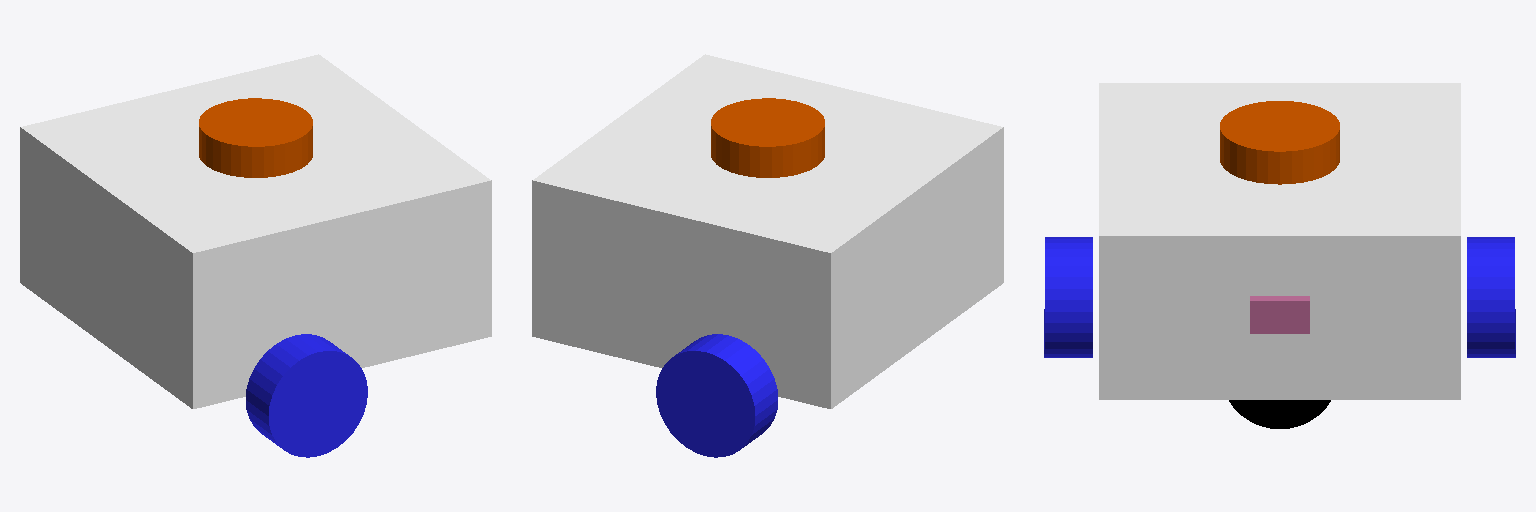
The robot description file, URDF, robot "my_robot":
<?xml version="1.0"?>
<robot name="my_robot" xmlns:xacro="http://www.ros.org/wiki/xacro">
    <material name="white">
        <color rgba="1 1 1 1" />
    </material>

    <material name="orange">
        <color rgba="1 0.3 0.1 1" />
    </material>

    <material name="blue">
        <color rgba="0.2 0.2 1 1" />
    </material>

    <material name="black">
        <color rgba="0 0 0 1" />
    </material>


    

    <link name="base_link">
        <inertial>
            <mass value="1.0" />
            <origin xyz="0.15 0 0.075" rpy="0 0 0" />
            <inertia ixx="0.2" ixy="0" ixz="0" iyy="0.2" iyz="0" izz="0.2" />
        </inertial>
        <visual>
            <origin xyz="0.15 0 0.075" rpy="0 0 0" />
            <geometry>
                <box size="0.3 0.3 0.15" />
            </geometry>
            <material name="white" />
        </visual>
        <collision>
            <origin xyz="0.15 0 0.075" rpy="0 0 0" />
            <geometry>
                <box size="0.3 0.3 0.15" />
            </geometry>
        </collision>
    </link>
    <gazebo reference="base_link">
        <material>Gazebo/White</material>
    </gazebo>

    <!-- LEFT WHEEL -->
    <joint name="left_wheel_joint" type="continuous">
        <parent link="base_link" />
        <child link="left_wheel" />
        <origin xyz="0.1 0.175 0" rpy="-1.57 0 0" />
        <axis xyz="0 0 1" />
    </joint>

    <link name="left_wheel">
        <inertial>
            <mass value="0.1" />
            <origin xyz="0 0 0" />
            <inertia ixx="0.002" ixy="0" ixz="0" iyy="0.002" iyz="0" izz="0.002" />
        </inertial>
        <visual>
            <geometry>
                <cylinder length="0.04" radius="0.05" />
            </geometry>
            <material name="blue" />
        </visual>
        <collision>
            <origin xyz="0 0 0" rpy="0 0 0" />
            <geometry>
                <cylinder length="0.04" radius="0.05" />
            </geometry>
        </collision>
    </link>
    <gazebo reference="left_wheel">
        <material>Gazebo/Black</material>

    </gazebo>

    <!-- RIGHT WHEEL -->
    <joint name="right_wheel_joint" type="continuous">
        <parent link="base_link" />
        <child link="right_wheel" />
        <origin xyz="0.1 -0.175 0" rpy="1.57 0 0" />
        <axis xyz="0 0 -1" />
    </joint>

    <link name="right_wheel">
        <inertial>
            <mass value="0.1" />
            <origin xyz="0 0 0" />
            <inertia ixx="0.002" ixy="0" ixz="0" iyy="0.002" iyz="0" izz="0.002" />
        </inertial>
        <visual>
            <geometry>
                <cylinder length="0.04" radius="0.05" />
            </geometry>
            <material name="blue" />
        </visual>
        <collision>
            <origin xyz="0 0 0" rpy="0 0 0" />
            <geometry>
                <cylinder length="0.04" radius="0.05" />
            </geometry>
        </collision>
    </link>
    <gazebo reference="right_wheel">
        <material>Gazebo/Black</material>

    </gazebo>

    <!-- CASTER WHEEL -->
    <joint name="caster_wheel_joint" type="fixed">
        <parent link="base_link" />
        <child link="caster_wheel" />
        <origin xyz="0.24 0 0" rpy="0 0 0" />
    </joint>

    <link name="caster_wheel">
        <visual>
            <geometry>
                <sphere radius="0.05" />
            </geometry>
            <material name="black" />
        </visual>
        <collision>
            <geometry>
                <sphere radius="0.05" />
            </geometry>
        </collision>
        <inertial>
            <mass value="0.2" />
            <origin xyz="0 0 0" />
            <inertia ixx="0.0002" ixy="0" ixz="0" iyy="0.0002" iyz="0" izz="0.0002" />
        </inertial>
    </link>

    <gazebo reference="caster_wheel">
        <material>Gazebo/Red</material>
        <mu1 value="0.001" />
        <mu2 value="0.001" />
    </gazebo>

    <joint name="imu_link_joint" type="fixed">
        <parent link="base_link" />
        <child link="imu_link" />
        <origin xyz="0.25 0 0.10" rpy="0 0 0" />
    </joint>
  <gazebo reference="imu_link">
        <material>Gazebo/Orange</material>
        <mu1 value="0.001" />
        <mu2 value="0.001" />
    </gazebo>
    <link name="imu_link">
        <inertial>
            <mass value="0.001"/>
            <origin xyz="0 0 0" rpy="0 0 0"/>
            <inertia ixx="0.000001" ixy="0" ixz="0" iyy="0.000001" iyz="0" izz="0.000001"/>
        </inertial>
        <visual>
            <geometry>
            <sphere radius="0.005"/>
            </geometry>
            <material name="gray">
            <color rgba="0.5 0.5 0.5 1.0"/>
            </material>
        </visual>
        <imu name="imu_sensor">
            <origin xyz="0 0 0" rpy="0 0 0"/>
            <acceleration>
            <noise>
                <covariance>0.04 0 0 0 0.04 0 0 0 0.04</covariance>
            </noise>
            </acceleration>
            <angular_velocity>
            <noise>
                <covariance>0.0025 0 0 0 0.0025 0 0 0 0.0025</covariance>
            </noise>
            </angular_velocity>
            <magnetic_field>
            <noise>
                <covariance>0.02 0 0 0 0.02 0 0 0 0.02</covariance>
            </noise>
            </magnetic_field>
        </imu>
    </link>

    <!-- LIDAR -->
    <joint name="lidar_joint" type="fixed">
        <parent link="base_link" />
        <child link="lidar" />
        <origin xyz="0.15 0 0.16" rpy="0 0 0" />
    </joint>

    <link name="lidar">
        <inertial>
            <mass value="0.1" />
            <origin xyz="0 0 0" />
            <inertia ixx="0.002" ixy="0" ixz="0" iyy="0.002" iyz="0" izz="0.002" />
        </inertial>
        <visual>
            <geometry>
                <cylinder length="0.04" radius="0.05" />
            </geometry>
            <material name="green" />
        </visual>
        <collision>
            <origin xyz="0 0 0" rpy="0 0 0" />
            <geometry>
                <cylinder length="0.04" radius="0.05" />
            </geometry>
        </collision>
    </link>

    <gazebo reference="lidar">
        <material>Gazebo/Yellow</material>

    </gazebo>
    <!-- CAMERA -->
    <joint name="camera_joint" type="fixed">
        <parent link="base_link" />
        <child link="camera" />
        <origin xyz="0.3 0 0.08" rpy="0 0 0" />
    </joint>

    <link name="camera">
        <inertial>
            <mass value="0.1" />
            <origin xyz="0 0 0" />
            <inertia ixx="0.002" ixy="0" ixz="0" iyy="0.002" iyz="0" izz="0.002" />
        </inertial>
        <visual>
            <geometry>
                <box size="0.02 0.05 0.03" />
            </geometry>
            <material name="yellow" />
        </visual>
        <collision>
            <origin xyz="0 0 0" rpy="0 0 0" />
            <geometry>
                <box size="0.02 0.03 0.03" />
            </geometry>
        </collision>
    </link>

    <gazebo reference="camera">
        <material>Gazebo/Blue</material>

    </gazebo>

    <gazebo reference="imu_link">
    <sensor name="imu_sensor" type="imu">
      <plugin filename="libgazebo_ros_imu_sensor.so" name="imu_plugin">
        <ros>
          <namespace>/demo</namespace>
          <remapping>~/out:=imu</remapping>
        </ros>
        <initial_orientation_as_reference>false</initial_orientation_as_reference>
      </plugin>
      <always_on>true</always_on>
      <update_rate>100</update_rate>
      <visualize>true</visualize>
     <imu>
     	<angular_velocity>
     	  <x>
     	    <noise type="gaussian">
              <mean>0.0</mean>
              <stddev>2e-4</stddev>
              <bias_mean>0.0000075</bias_mean>
              <bias_stddev>0.0000008</bias_stddev>
            </noise>
          </x>
          <y>
            <noise type="gaussian">
              <mean>0.0</mean>
              <stddev>2e-4</stddev>
              <bias_mean>0.0000075</bias_mean>
              <bias_stddev>0.0000008</bias_stddev>
            </noise>
          </y>
          <z>
            <noise type="gaussian">
              <mean>0.0</mean>
              <stddev>2e-4</stddev>
              <bias_mean>0.0000075</bias_mean>
              <bias_stddev>0.0000008</bias_stddev>
            </noise>
          </z>
        </angular_velocity>
        <linear_acceleration>
          <x>
            <noise type="gaussian">
              <mean>0.0</mean>
              <stddev>1.7e-2</stddev>
              <bias_mean>0.1</bias_mean>
              <bias_stddev>0.001</bias_stddev>
            </noise>
          </x>
          <y>
            <noise type="gaussian">
              <mean>0.0</mean>
              <stddev>1.7e-2</stddev>
              <bias_mean>0.1</bias_mean>
              <bias_stddev>0.001</bias_stddev>
            </noise>
          </y>
          <z>
            <noise type="gaussian">
              <mean>0.0</mean>
              <stddev>1.7e-2</stddev>
              <bias_mean>0.1</bias_mean>
              <bias_stddev>0.001</bias_stddev>
            </noise>
          </z>
        </linear_acceleration>
      </imu>
    </sensor>
  </gazebo>


<gazebo>
    <plugin name='diff_drive' filename='libgazebo_ros_diff_drive.so'>

      <!-- wheels -->
      <left_joint>left_wheel_joint</left_joint>
      <right_joint>right_wheel_joint</right_joint>

      <!-- kinematics -->
      <wheel_separation>1.66</wheel_separation>
      <wheel_diameter>0.8</wheel_diameter>

      <!-- limits -->	
      <max_wheel_torque>20</max_wheel_torque>
      <max_wheel_acceleration>1.0</max_wheel_acceleration>

      <!-- output -->
      <publish_odom>true</publish_odom>
      <publish_odom_tf>false</publish_odom_tf>
      <publish_wheel_tf>true</publish_wheel_tf>
            <command_topic>cmd_vel</command_topic>

      <odometry_frame>odom</odometry_frame>
      <robot_base_frame>base_link</robot_base_frame>
    </plugin>
  </gazebo>


  <gazebo reference="lidar">
    <sensor name="lidar" type="ray">
      <always_on>true</always_on>
      <visualize>true</visualize>
      <update_rate>5</update_rate>
      <ray>
        <scan>
          <horizontal>
            <samples>360</samples>
            <resolution>1.000000</resolution>
            <min_angle>0.000000</min_angle>
            <max_angle>6.280000</max_angle>
          </horizontal>
        </scan>
        <range>
          <min>0.120000</min>
          <max>3.5</max>
          <resolution>0.015000</resolution>
        </range>
        <noise>
          <type>gaussian</type>
          <mean>0.0</mean>
          <stddev>0.01</stddev>
        </noise>
      </ray>
      <plugin name="scan" filename="libgazebo_ros_ray_sensor.so">
        <ros>
          <remapping>~/out:=scan</remapping>
        </ros>
        <output_type>sensor_msgs/LaserScan</output_type>
        <frame_name>lidar</frame_name>
      </plugin>
    </sensor>
  </gazebo>

  <gazebo reference="camera_link">
    <sensor name="depth_camera" type="depth">
      <visualize>true</visualize>
      <update_rate>30.0</update_rate>
      <camera name="camera">
        <horizontal_fov>1.047198</horizontal_fov>
        <image>
          <width>640</width>
          <height>480</height>
          <format>R8G8B8</format>
        </image>
        <clip>
          <near>0.05</near>
          <far>3</far>
        </clip>
      </camera>
      <plugin name="depth_camera_controller" filename="libgazebo_ros_camera.so">
        <baseline>0.2</baseline>
        <alwaysOn>true</alwaysOn>
        <updateRate>0.0</updateRate>
        <frame_name>camera_depth_frame</frame_name>
        <pointCloudCutoff>0.5</pointCloudCutoff>
        <pointCloudCutoffMax>3.0</pointCloudCutoffMax>
        <distortionK1>0</distortionK1>
        <distortionK2>0</distortionK2>
        <distortionK3>0</distortionK3>
        <distortionT1>0</distortionT1>
        <distortionT2>0</distortionT2>
        <CxPrime>0</CxPrime>
        <Cx>0</Cx>
        <Cy>0</Cy>
        <focalLength>0</focalLength>
        <hackBaseline>0</hackBaseline>
      </plugin>
    </sensor>
  </gazebo>


</robot>
 

--- Render facts (derived) ---
The picture shows the robot from 3 angles, left to right: view 1: azimuth 30°, elevation 25°; view 2: azimuth 150°, elevation 25°; view 3: azimuth 270°, elevation 25°; orthographic projection.
Robot: my_robot — 7 links, 6 joints (2 continuous, 4 fixed); root link base_link; default pose: all joints at 0.
Visible links, largest first — view 1: base_link, right_wheel, lidar; view 2: base_link, left_wheel, lidar; view 3: base_link, lidar, left_wheel, right_wheel, camera, caster_wheel.
Link boxes in pixels (x1,y1,x2,y2): base_link: (20, 54, 491, 408); right_wheel: (246, 334, 367, 457); lidar: (199, 98, 312, 177); base_link: (532, 54, 1003, 408); left_wheel: (656, 334, 777, 457); lidar: (711, 98, 824, 177); base_link: (1099, 83, 1460, 399); lidar: (1220, 101, 1339, 184); left_wheel: (1467, 237, 1515, 357); right_wheel: (1044, 237, 1092, 357); camera: (1250, 296, 1309, 333); caster_wheel: (1229, 400, 1330, 428).
Bounding box of the posed robot: 0.31 × 0.3901 × 0.23 m (x, y, z).
Geometry: primitives only (box / cylinder / sphere), no mesh files.
